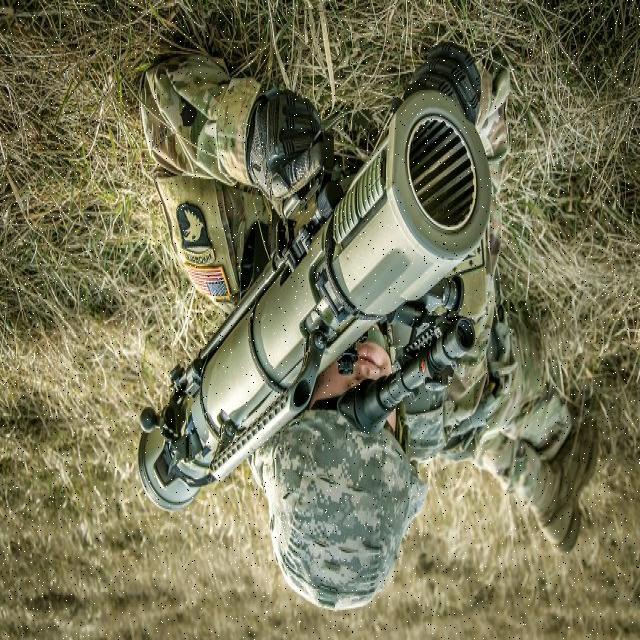bazooka: (137, 83, 497, 518)
